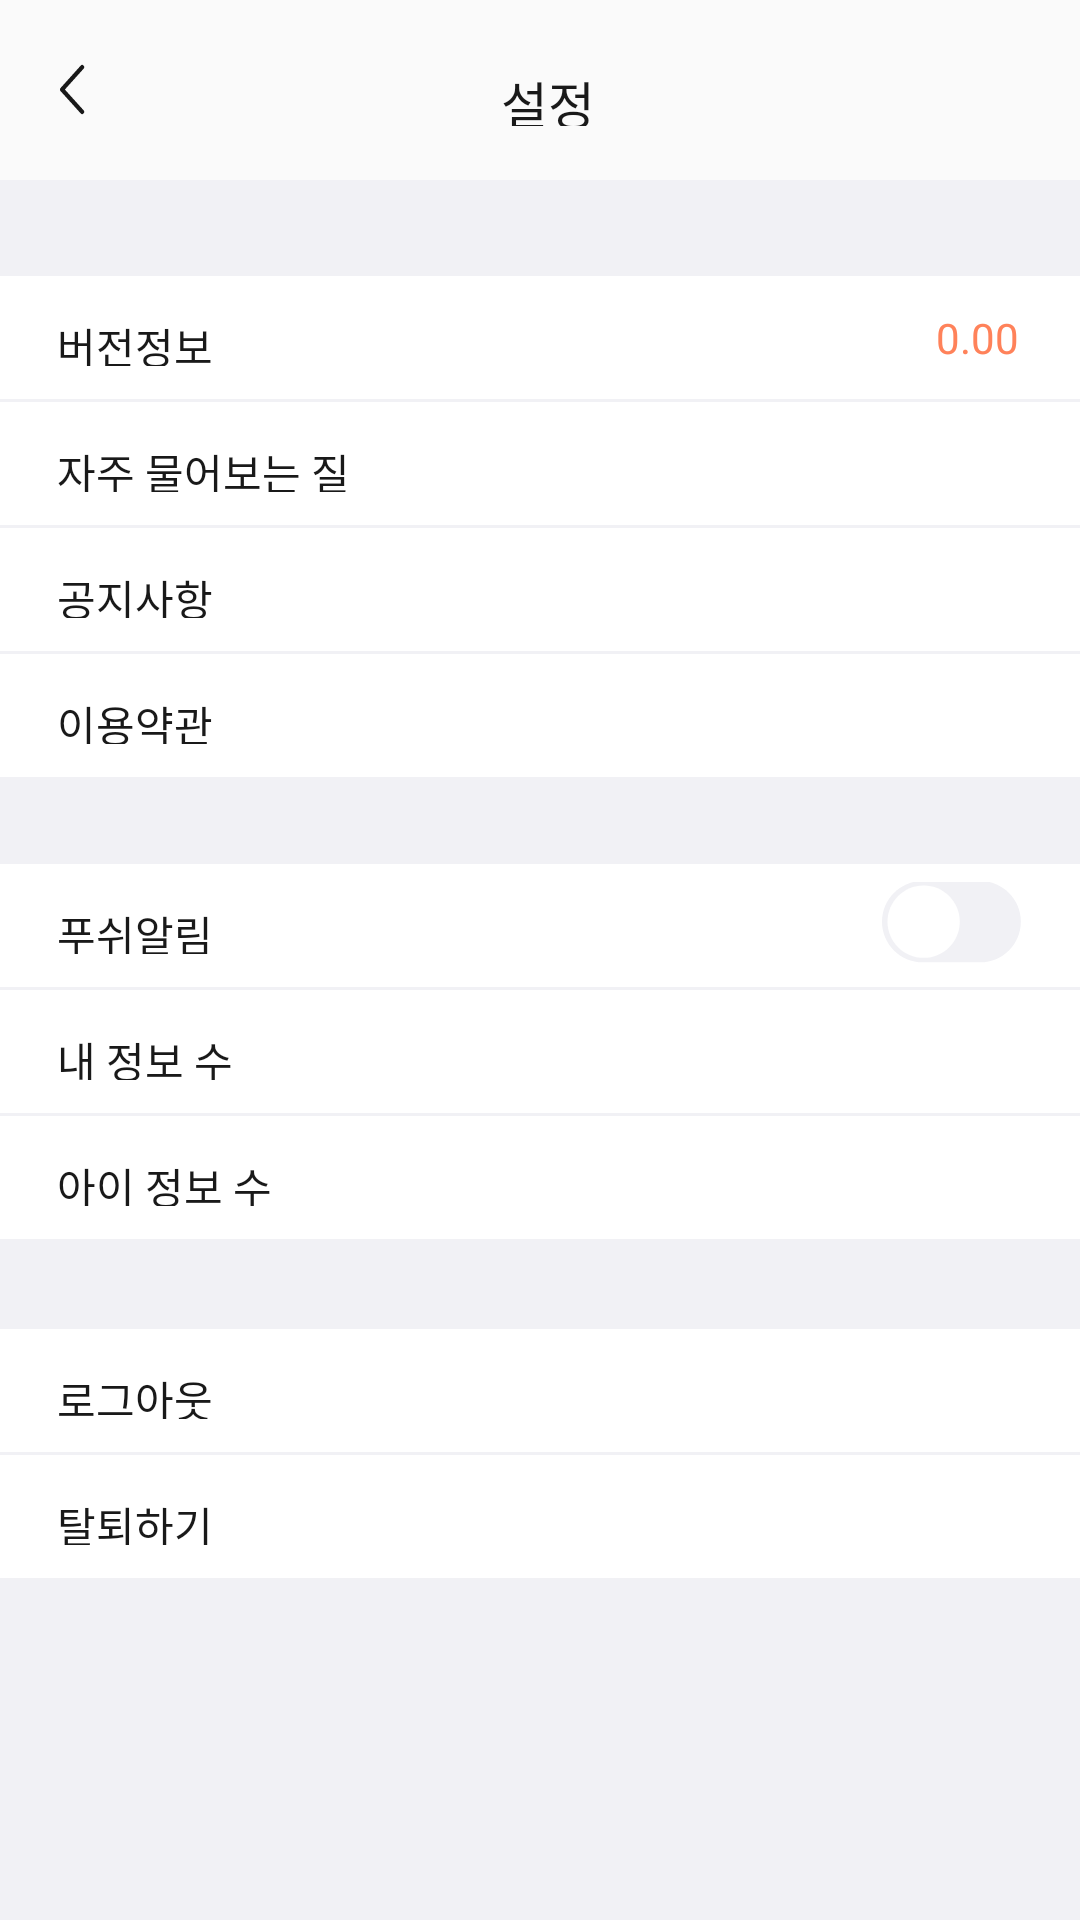

Icons on this 1080×1920 Android screen, each with the point to tap as [x,y]:
back: [72,89]
